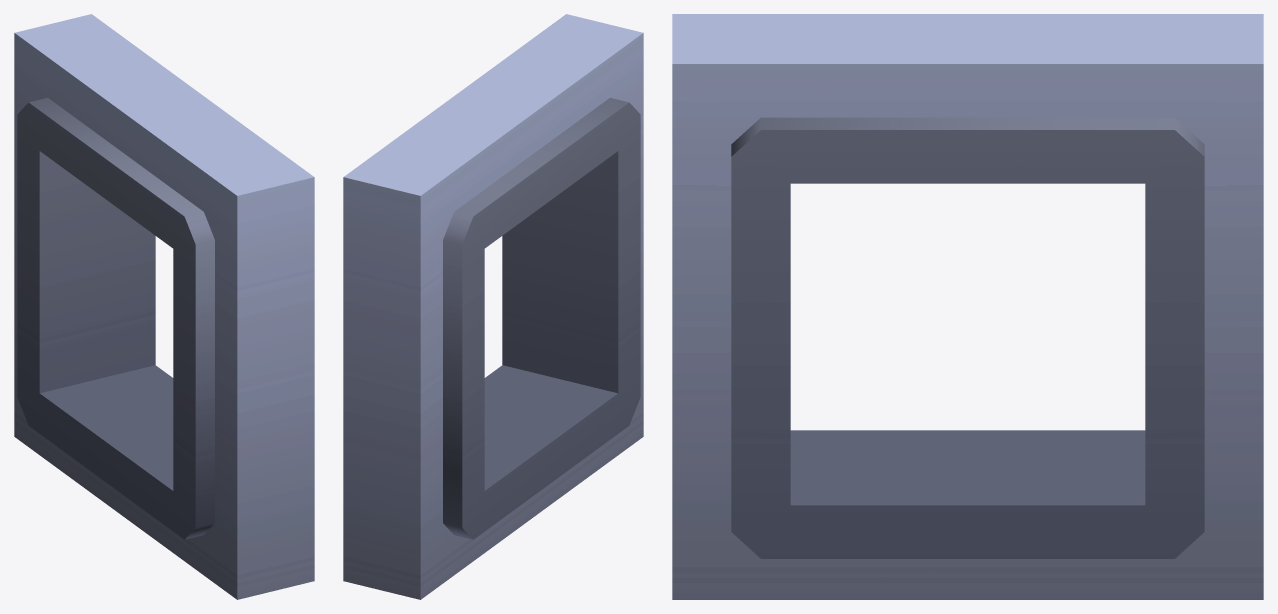
Rendered from wall-window-large.glb.
3 views of the same model, side by side, from view 1: azimuth 30°, elevation 25°; view 2: azimuth 150°, elevation 25°; view 3: azimuth 270°, elevation 25° (orthographic). The views are drawn at different scales.
Parts seen in each view (by area): view 1: wall-window-large; view 2: wall-window-large; view 3: wall-window-large.
Part boxes in pixels (bbox=[...]): wall-window-large: bbox=[14, 14, 314, 599]; wall-window-large: bbox=[343, 14, 643, 599]; wall-window-large: bbox=[672, 14, 1263, 599].
Bounding box in the file's own units: 0.3 × 1 × 1.
1 material, 1 textured.
